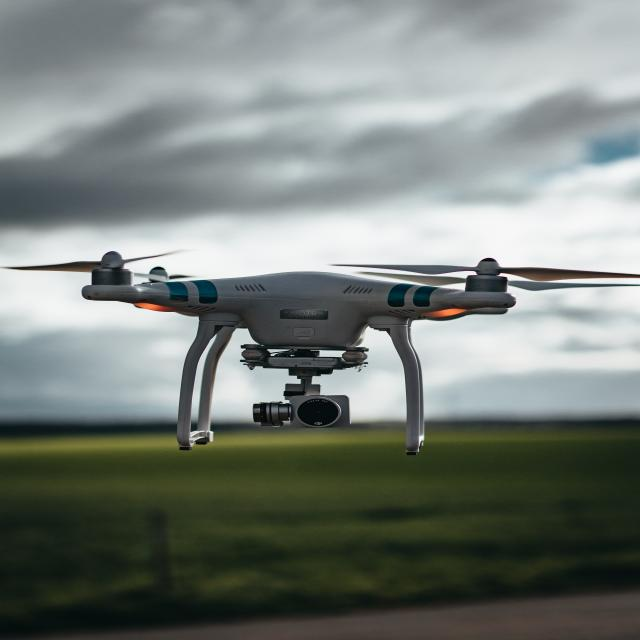drones: (4, 236, 640, 460)
